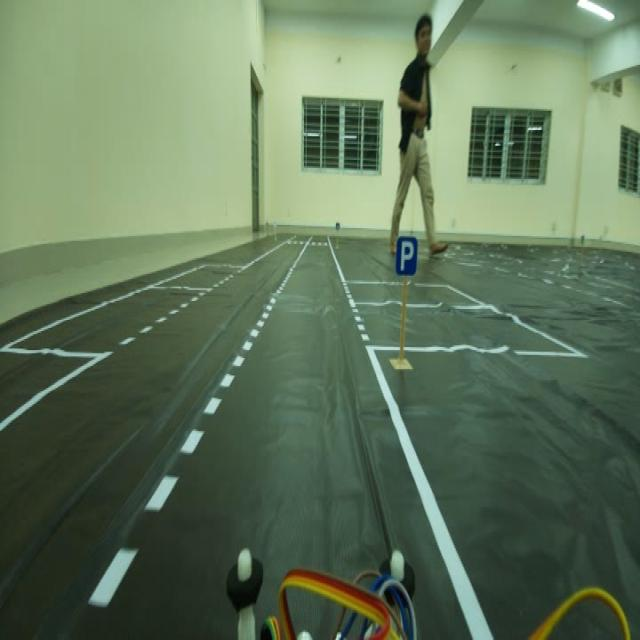parking: (393, 228, 422, 288)
